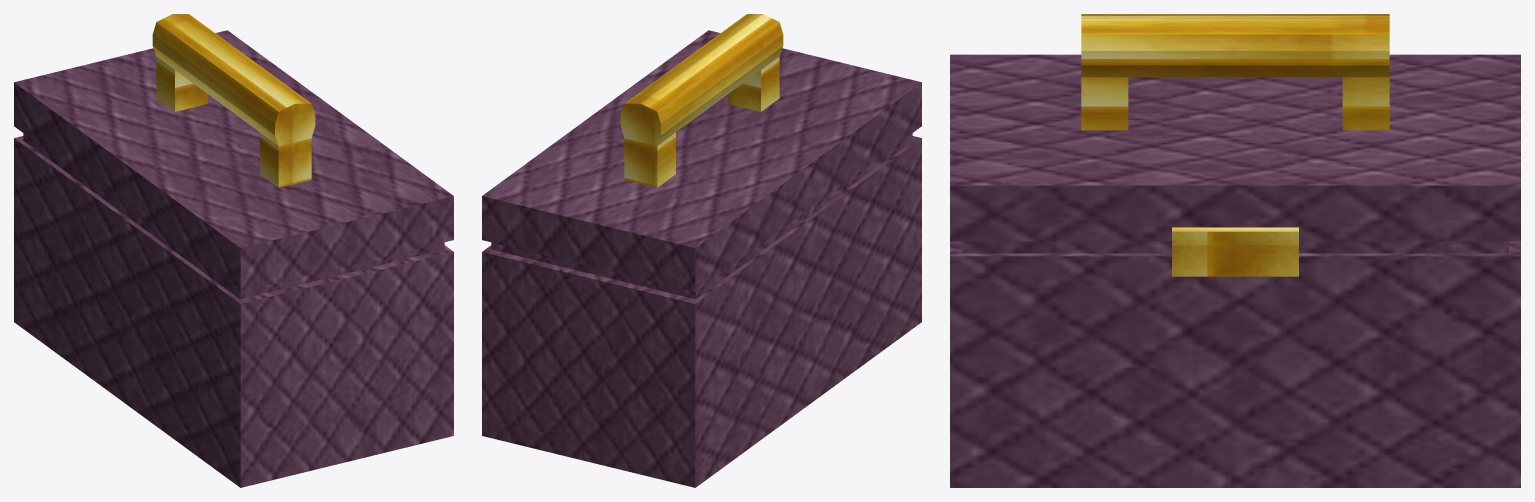
Rendered from makeupbox.fbx.
3 renders of one model, left to right at view 1: azimuth 30°, elevation 25°; view 2: azimuth 150°, elevation 25°; view 3: azimuth 270°, elevation 25°, orthographic. The views are drawn at different scales.
Parts seen in each view (by area): view 1: MakeupBOX, MakeupGOLD; view 2: MakeupBOX, MakeupGOLD; view 3: MakeupBOX, MakeupGOLD.
Boxes of the visible parts, left/top/right/bottom form: MakeupBOX: left=14, top=30, right=453, bottom=487; MakeupGOLD: left=152, top=14, right=315, bottom=187; MakeupBOX: left=482, top=30, right=921, bottom=487; MakeupGOLD: left=620, top=14, right=783, bottom=187; MakeupBOX: left=950, top=54, right=1520, bottom=487; MakeupGOLD: left=1081, top=14, right=1389, bottom=276.
Size of the model in its own units: 11.25 by 15.62 by 20.03.
